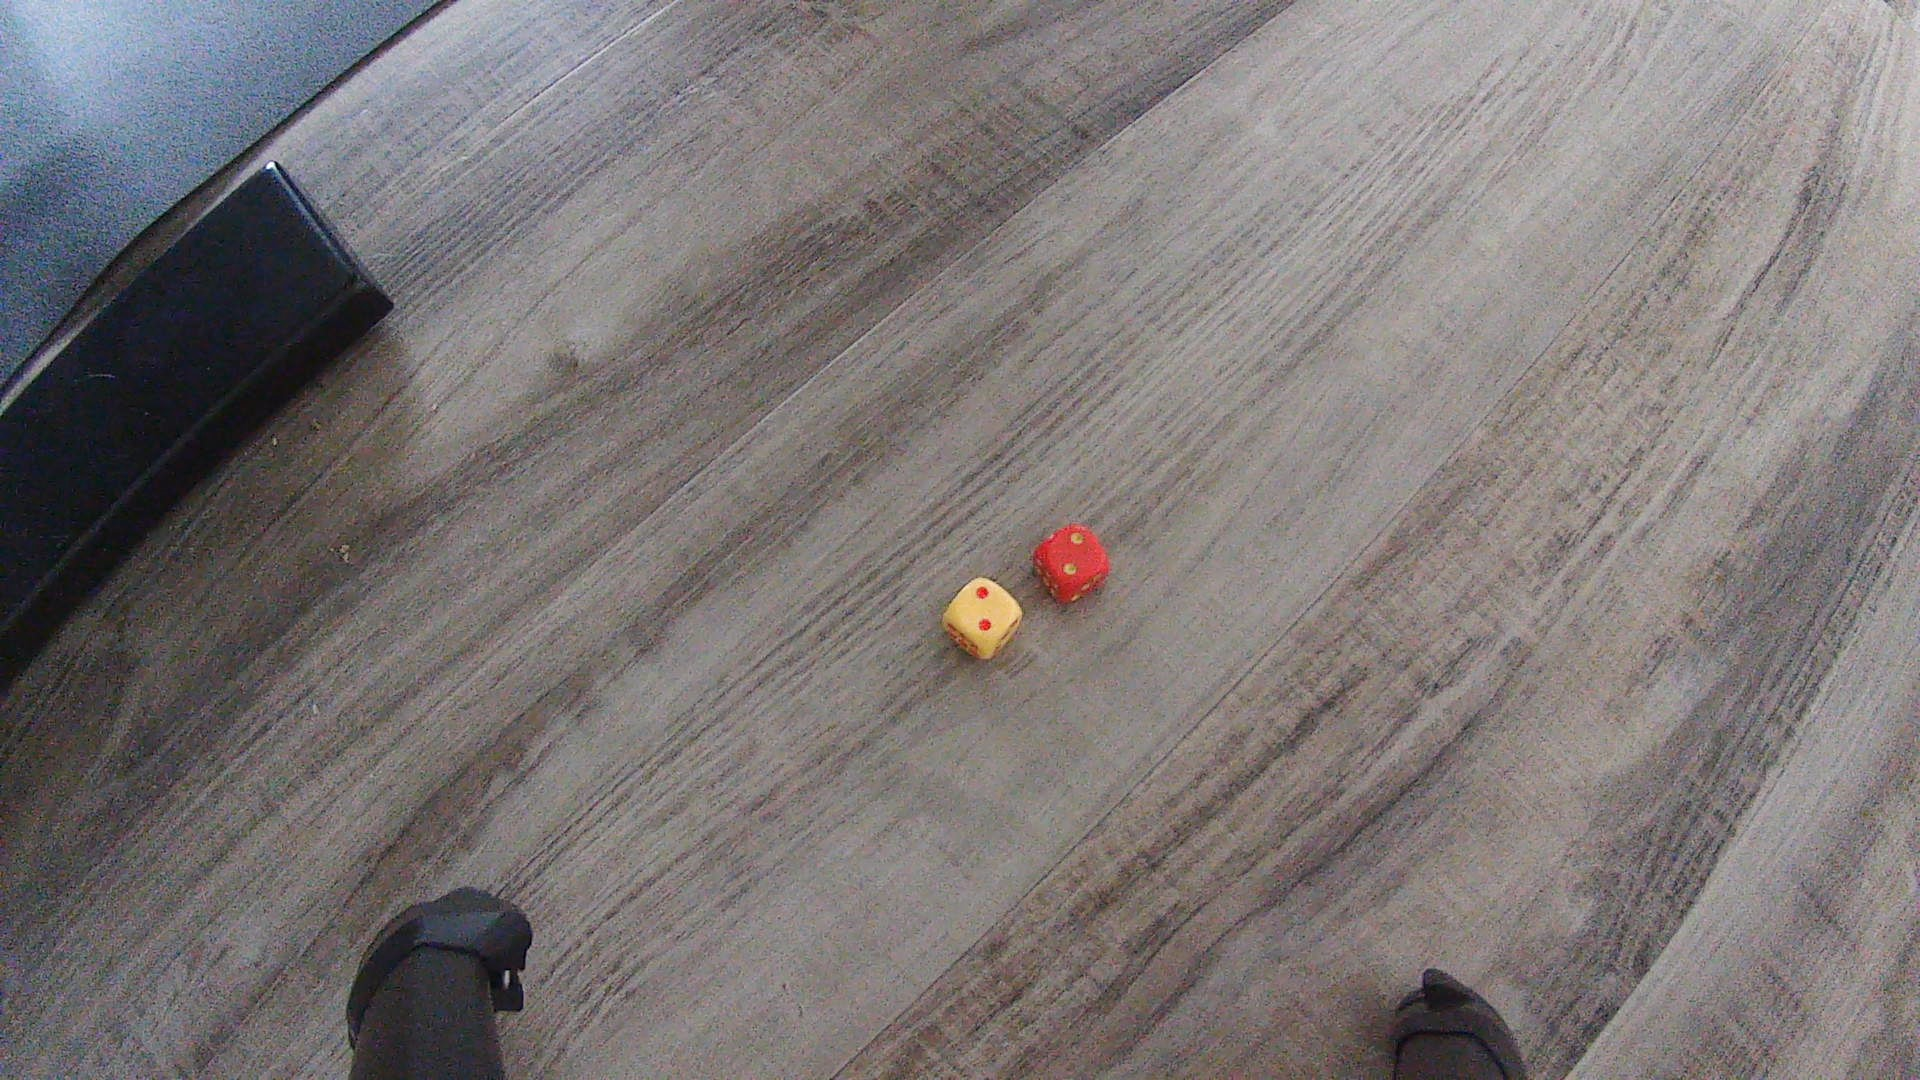die: (943, 575, 1023, 662), (1034, 522, 1112, 609)
